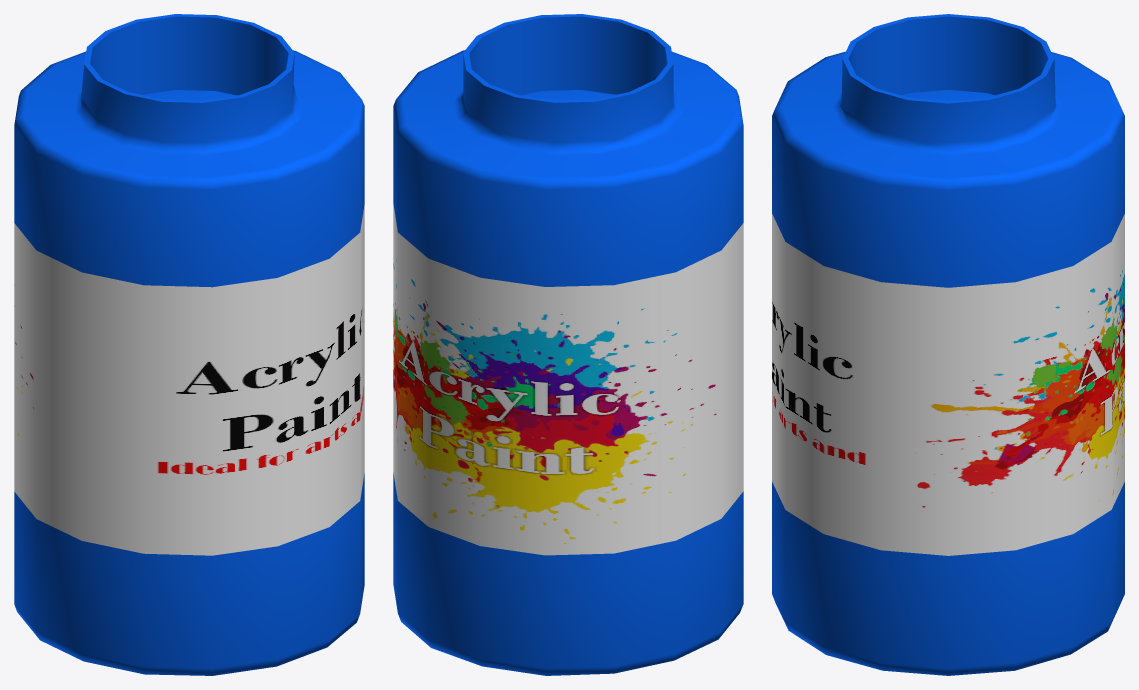
The model's file is SM_Paint_Bottle_2.glb.
The picture shows the model from 3 angles, left to right: view 1: azimuth 30°, elevation 25°; view 2: azimuth 150°, elevation 25°; view 3: azimuth 270°, elevation 25°; orthographic projection.
Visible parts, largest first — view 1: SM_Paint_Bottle_2; view 2: SM_Paint_Bottle_2; view 3: SM_Paint_Bottle_2.
Part boxes in pixels (<box>): SM_Paint_Bottle_2: <box>14,14,364,675</box>; SM_Paint_Bottle_2: <box>393,14,743,675</box>; SM_Paint_Bottle_2: <box>772,14,1124,675</box>.
Size of the model in its own units: 0.12 by 0.2052 by 0.12.
2 materials, 1 textured.
